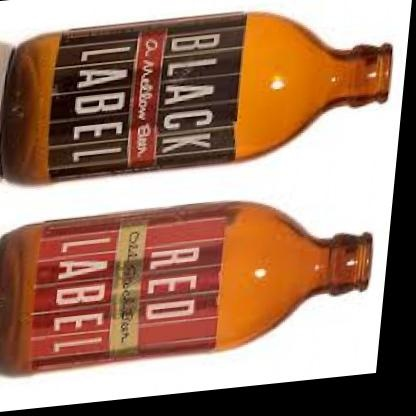trash: (0, 13, 391, 182), (0, 202, 371, 372)
